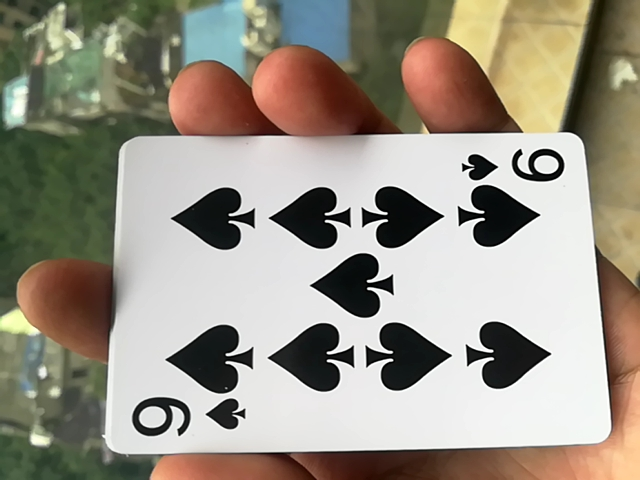ht 9: (92, 133, 611, 458)
